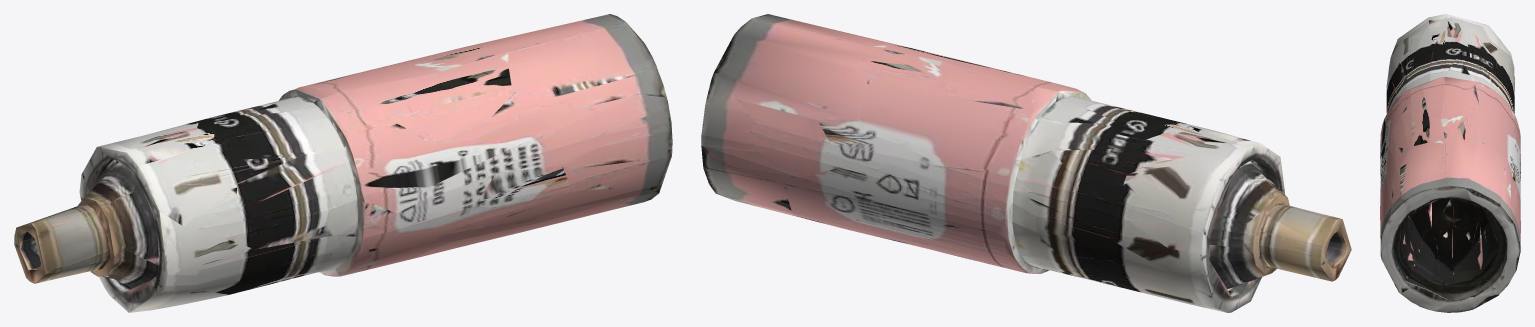
The model's file is trash-vape.glb.
3 views of the same model, side by side, from view 1: azimuth 30°, elevation 25°; view 2: azimuth 150°, elevation 25°; view 3: azimuth 270°, elevation 25° (orthographic). The views are drawn at different scales.
Bounding box in the file's own units: 1.9 × 0.5351 × 0.5356.
1 material, 1 textured.
